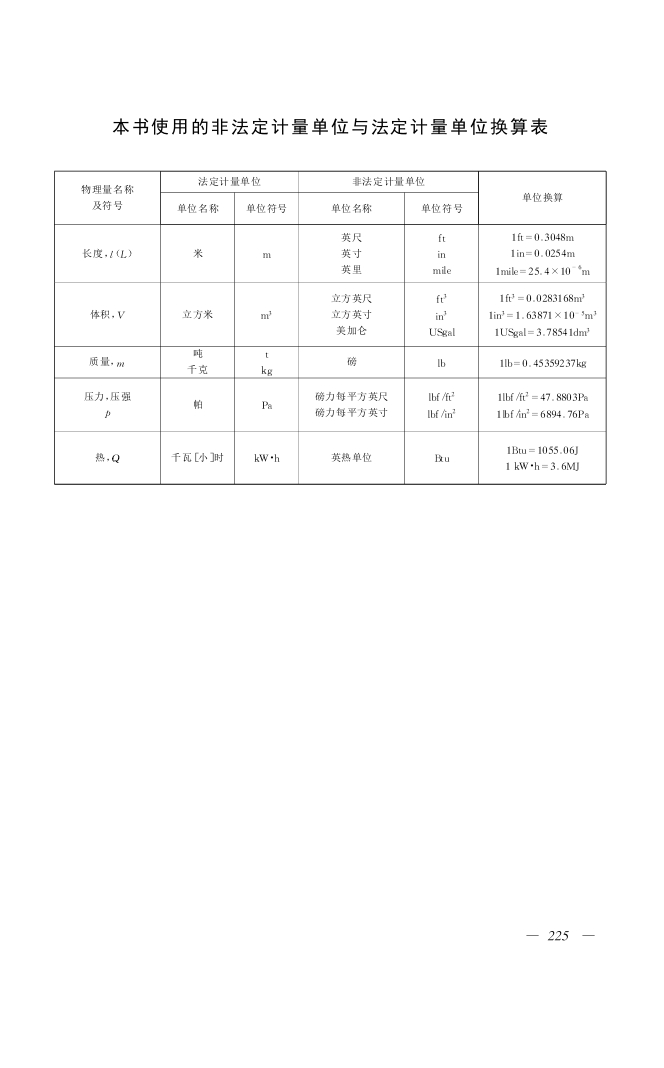table: (53, 170, 607, 484)
